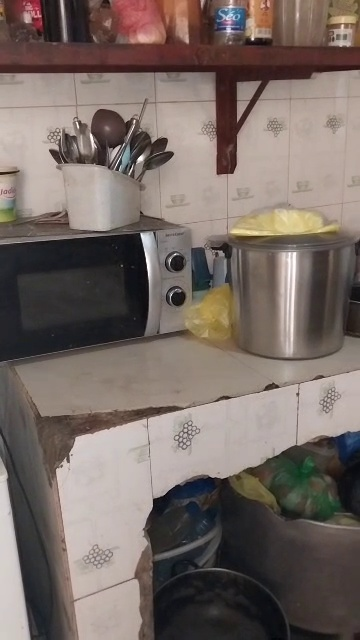microwave: (1, 214, 212, 373)
